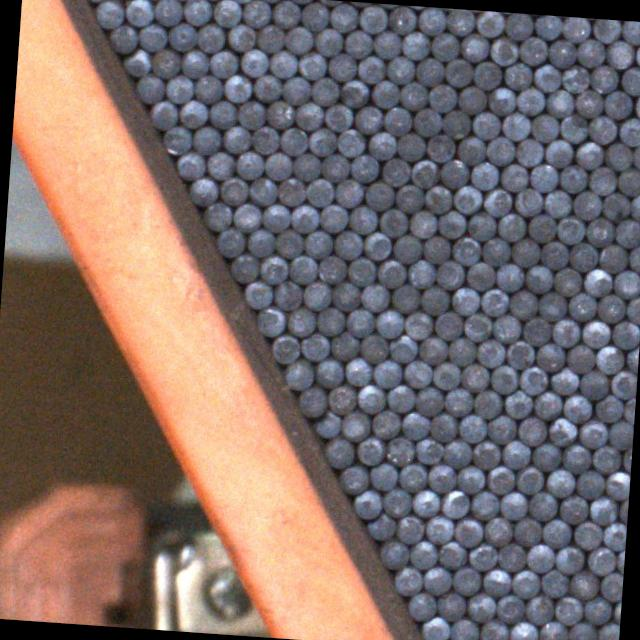tool: (296, 385, 326, 416), (380, 487, 410, 518), (352, 489, 382, 519), (322, 102, 352, 132), (540, 517, 570, 547), (578, 369, 608, 399), (442, 386, 472, 416), (418, 336, 448, 366), (302, 280, 332, 310), (326, 384, 356, 414), (492, 314, 522, 344), (500, 438, 530, 468), (148, 48, 178, 78), (314, 357, 344, 387), (508, 568, 538, 598), (258, 254, 288, 284), (418, 286, 448, 316), (298, 332, 328, 362), (332, 230, 362, 260), (484, 464, 514, 494), (510, 516, 540, 546), (464, 593, 494, 623), (337, 464, 367, 494), (272, 229, 302, 259), (286, 306, 316, 336), (440, 108, 470, 138), (339, 410, 369, 440), (568, 570, 598, 600), (600, 191, 630, 221), (284, 359, 313, 390), (415, 385, 444, 415), (444, 58, 473, 88), (408, 592, 437, 622), (328, 3, 357, 33), (474, 338, 504, 367), (345, 255, 374, 285), (424, 134, 454, 163), (365, 180, 394, 210), (370, 29, 400, 58), (292, 100, 321, 130), (287, 255, 316, 285), (572, 89, 602, 118), (344, 307, 373, 337), (463, 312, 492, 342), (281, 76, 310, 106), (390, 284, 419, 314), (439, 158, 468, 188), (350, 152, 379, 182), (485, 136, 514, 166), (569, 242, 598, 272), (434, 592, 463, 622), (261, 202, 290, 232), (290, 152, 319, 182), (317, 202, 346, 232), (310, 76, 339, 106), (540, 238, 569, 268), (373, 308, 402, 338), (402, 310, 432, 339), (215, 228, 244, 258), (426, 463, 456, 492), (335, 128, 364, 158), (412, 107, 441, 137), (478, 287, 508, 316), (332, 280, 361, 310), (164, 75, 193, 105), (435, 258, 464, 288), (514, 137, 544, 166), (603, 89, 632, 119), (394, 133, 424, 162), (315, 306, 344, 336), (594, 343, 623, 373), (459, 32, 488, 62), (237, 98, 266, 128), (470, 438, 499, 468), (359, 334, 388, 364), (470, 110, 499, 140), (397, 81, 426, 111), (422, 565, 451, 595), (399, 410, 428, 440), (256, 306, 285, 336), (324, 438, 353, 468), (398, 462, 427, 492), (536, 290, 565, 320), (192, 124, 221, 154), (408, 538, 437, 568), (450, 236, 479, 266), (108, 24, 137, 54), (177, 98, 206, 128), (487, 414, 516, 444), (604, 39, 634, 68), (530, 442, 560, 471), (391, 234, 420, 264), (482, 186, 512, 215), (329, 332, 358, 362), (486, 85, 516, 114), (489, 36, 518, 66), (272, 280, 300, 311), (385, 55, 414, 84), (566, 343, 595, 372), (428, 82, 457, 111), (499, 110, 528, 139), (558, 163, 587, 192), (162, 125, 191, 154), (360, 283, 389, 312), (378, 208, 407, 237), (456, 414, 485, 443), (451, 565, 480, 594), (587, 167, 616, 196), (542, 139, 571, 168), (525, 543, 554, 572), (555, 216, 584, 245), (343, 30, 372, 59), (452, 184, 481, 213), (529, 112, 558, 141), (408, 208, 437, 237), (313, 26, 342, 55), (559, 114, 588, 143), (402, 359, 431, 388), (533, 389, 562, 418), (371, 358, 400, 387), (393, 182, 422, 211), (348, 204, 377, 233), (562, 444, 591, 473), (472, 389, 501, 418), (611, 320, 640, 349), (590, 444, 619, 473), (449, 286, 478, 315), (593, 394, 622, 423), (577, 419, 606, 448), (458, 84, 487, 113), (386, 333, 415, 362), (467, 212, 496, 241), (276, 176, 304, 206), (506, 338, 534, 368), (270, 333, 298, 363), (466, 262, 494, 292), (382, 106, 410, 136), (304, 230, 332, 260), (233, 202, 261, 232), (550, 318, 578, 348), (246, 228, 274, 258), (428, 413, 456, 443), (388, 4, 416, 34), (610, 368, 638, 398), (612, 218, 640, 248), (518, 366, 548, 394), (598, 242, 626, 272), (376, 258, 404, 288), (362, 230, 390, 260), (401, 30, 429, 60), (554, 596, 582, 626), (471, 60, 499, 90), (482, 516, 510, 546), (332, 178, 362, 206), (436, 540, 464, 570), (299, 2, 327, 32), (265, 98, 293, 128), (279, 126, 307, 156), (194, 22, 222, 52), (249, 124, 277, 154), (522, 316, 550, 346), (589, 64, 617, 94), (305, 176, 333, 206), (434, 312, 462, 342), (489, 364, 517, 394), (370, 78, 398, 108), (524, 594, 552, 624), (393, 565, 421, 595), (355, 384, 383, 414), (371, 410, 399, 440), (562, 394, 590, 424), (520, 34, 548, 64), (542, 188, 570, 218), (242, 280, 272, 308), (407, 258, 435, 288), (423, 182, 451, 212), (540, 568, 568, 598), (430, 30, 458, 60), (208, 48, 236, 78), (573, 188, 601, 218), (470, 491, 498, 521), (288, 204, 316, 234), (497, 542, 525, 572), (414, 436, 444, 464), (508, 288, 536, 318), (380, 538, 408, 568), (552, 265, 580, 295), (424, 516, 454, 544), (436, 210, 466, 238), (230, 254, 258, 284), (588, 546, 616, 576), (415, 56, 443, 86), (516, 416, 544, 446), (560, 494, 588, 524), (454, 464, 482, 494), (466, 542, 496, 570), (504, 388, 532, 418), (496, 594, 524, 624), (586, 218, 614, 248), (588, 496, 616, 526), (384, 435, 412, 465), (456, 136, 484, 166), (355, 436, 383, 466), (222, 74, 250, 104), (576, 468, 604, 498), (602, 142, 630, 172), (312, 410, 342, 438), (548, 365, 578, 393), (358, 4, 387, 32), (264, 151, 292, 180), (545, 40, 574, 68), (523, 263, 551, 292), (410, 158, 438, 187), (284, 26, 313, 54), (368, 131, 396, 160), (387, 383, 415, 412), (432, 360, 460, 389), (147, 99, 175, 128), (482, 568, 510, 597), (240, 49, 268, 78), (588, 115, 616, 144), (247, 176, 276, 204), (560, 64, 589, 92), (568, 292, 596, 321), (382, 157, 410, 186), (526, 214, 555, 242), (516, 85, 544, 114), (514, 464, 542, 493), (446, 338, 474, 367), (225, 23, 254, 51), (480, 238, 509, 266), (327, 54, 356, 82), (528, 492, 556, 521), (256, 23, 284, 52), (296, 51, 324, 80), (544, 468, 572, 497), (180, 48, 208, 77), (218, 176, 246, 205), (439, 489, 467, 518), (596, 293, 624, 322), (534, 342, 562, 371), (340, 78, 368, 107), (138, 22, 166, 51), (574, 38, 603, 66), (319, 154, 348, 182), (369, 461, 397, 490), (241, 0, 270, 28), (496, 213, 524, 242), (470, 160, 498, 189), (204, 201, 232, 230), (269, 50, 297, 79), (221, 125, 249, 154), (512, 237, 540, 266), (95, 0, 124, 28), (272, 0, 300, 29), (394, 516, 423, 544), (206, 152, 234, 181), (544, 88, 572, 117), (502, 61, 530, 90), (454, 519, 482, 548), (136, 74, 163, 104), (607, 419, 634, 449), (235, 150, 262, 180), (461, 362, 488, 392), (442, 440, 469, 470), (308, 128, 336, 156), (417, 6, 445, 34), (584, 268, 612, 296), (548, 416, 576, 444), (316, 256, 344, 284), (344, 356, 372, 384), (498, 492, 526, 520), (420, 236, 448, 264), (494, 262, 522, 290), (573, 140, 601, 168), (532, 62, 560, 90), (498, 162, 526, 190), (192, 76, 220, 104), (528, 162, 556, 190), (580, 320, 608, 348), (556, 544, 584, 572), (514, 186, 542, 214), (357, 56, 385, 84), (572, 522, 600, 550), (353, 106, 381, 134), (188, 176, 216, 204), (120, 48, 148, 76), (252, 72, 280, 100), (175, 152, 203, 180), (366, 512, 394, 540), (582, 596, 610, 624), (502, 12, 531, 39), (613, 268, 640, 297), (208, 99, 235, 128), (560, 16, 590, 42), (472, 10, 502, 36), (604, 469, 630, 499), (167, 22, 194, 50), (411, 489, 438, 517), (212, 0, 241, 26), (122, 0, 151, 26), (446, 8, 474, 34), (152, 0, 181, 24), (616, 117, 640, 146), (600, 572, 623, 602), (533, 14, 561, 38), (602, 522, 626, 550), (182, 0, 210, 24), (449, 617, 478, 640), (420, 617, 449, 640), (617, 168, 640, 197), (592, 18, 620, 41), (479, 618, 508, 640), (537, 619, 566, 640), (619, 65, 640, 94), (508, 620, 536, 640), (566, 621, 595, 640), (624, 295, 640, 323), (621, 20, 640, 43), (597, 622, 619, 640), (625, 345, 639, 372), (627, 242, 640, 271), (622, 396, 635, 424), (629, 191, 640, 220), (618, 496, 628, 526), (622, 443, 632, 472), (631, 140, 640, 169), (615, 548, 625, 574), (612, 596, 622, 622), (633, 91, 640, 119), (635, 41, 640, 70), (314, 0, 343, 5), (285, 0, 314, 4), (226, 0, 253, 2)
